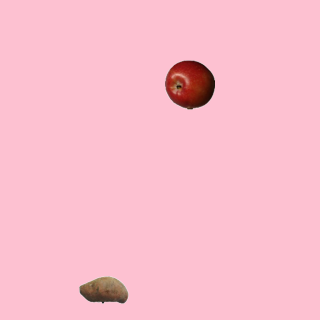Apple Braeburn: (164, 59, 214, 109)
Potato Sweet: (78, 264, 128, 314)
